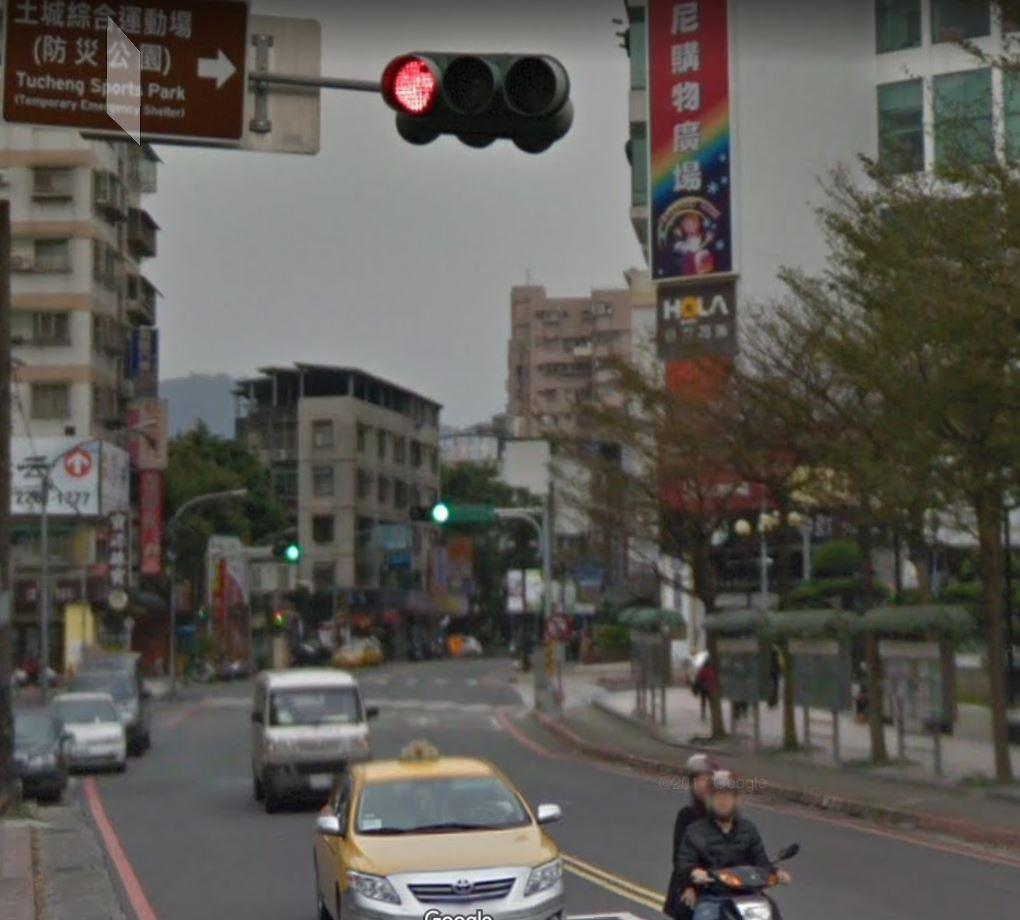red_traffic_light: (379, 47, 570, 125)
